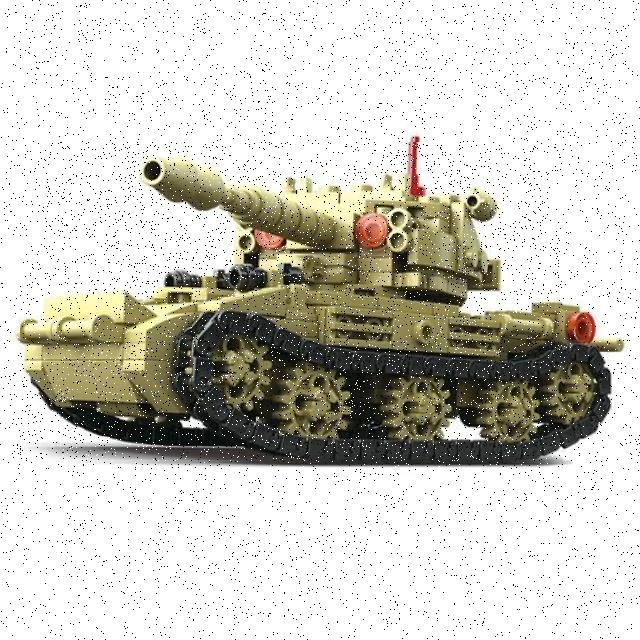MIL_MBT: (21, 143, 562, 461)
